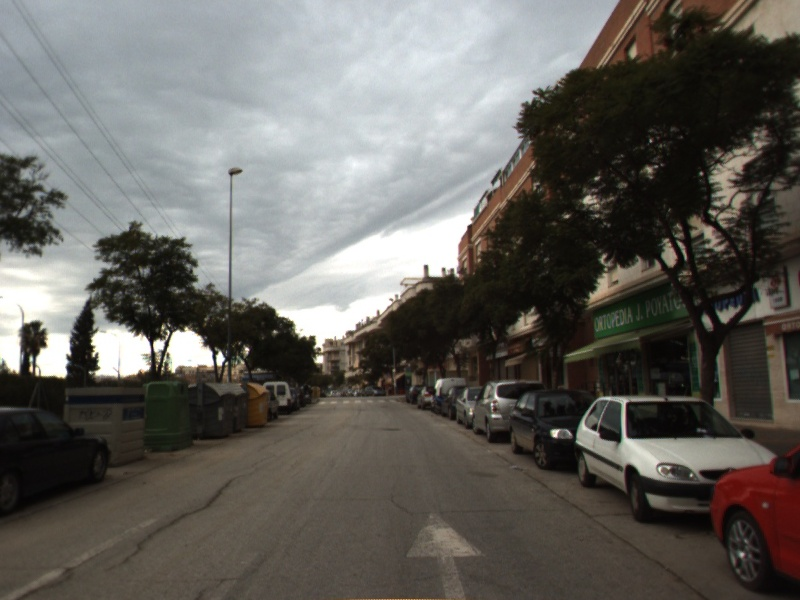STRAIGHT: (403, 505, 491, 600)
